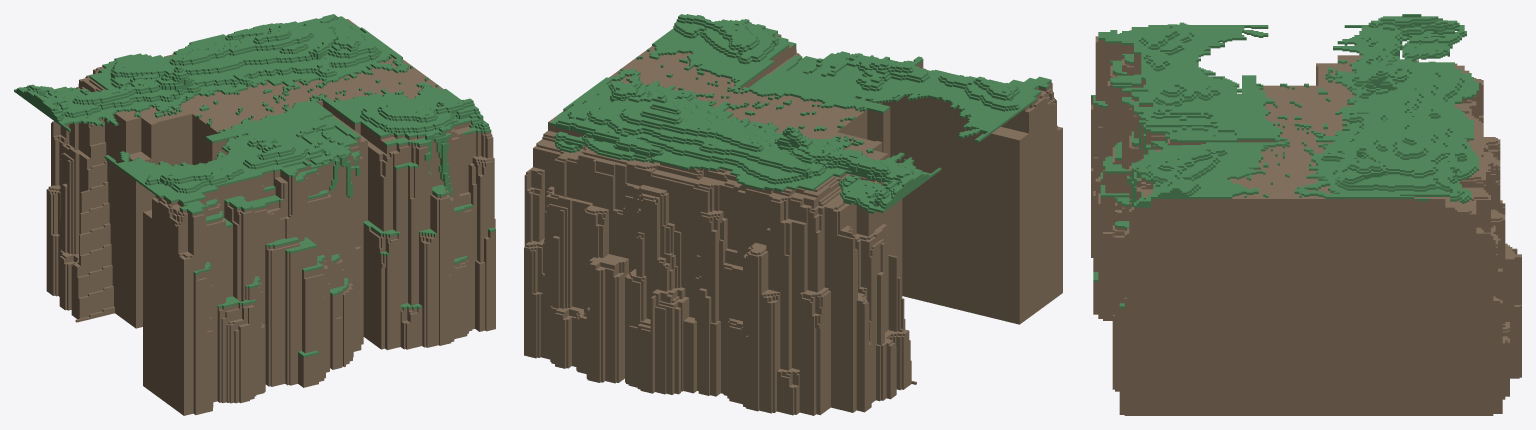
File: Cubeland-27.obj
3 views of the same model, side by side, from view 1: azimuth 30°, elevation 25°; view 2: azimuth 150°, elevation 25°; view 3: azimuth 270°, elevation 25° (orthographic). The views are drawn at different scales.
Size of the model in its own units: 17 by 11.1 by 18.
1 material, 1 textured.
